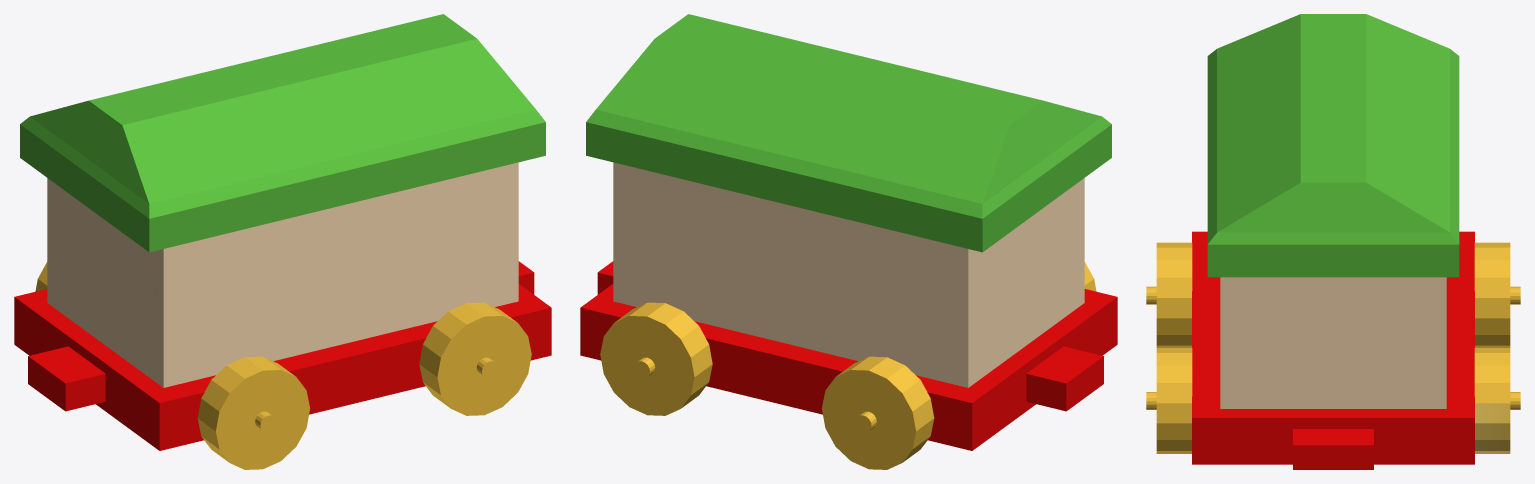
The model's file is Prop_ToyTrain_05.fbx.
3 views of the same model, side by side, from view 1: azimuth 30°, elevation 25°; view 2: azimuth 150°, elevation 25°; view 3: azimuth 270°, elevation 25° (orthographic). The views are drawn at different scales.
Parts seen in each view (by area): view 1: Prop_ToyTrain_05; view 2: Prop_ToyTrain_05; view 3: Prop_ToyTrain_05.
Part boxes in pixels (x1,y1,x2,y2): Prop_ToyTrain_05: (14, 14, 551, 469); Prop_ToyTrain_05: (580, 14, 1117, 469); Prop_ToyTrain_05: (1146, 14, 1520, 469).
Size of the model in its own units: 37.61 by 23.57 by 26.82.
